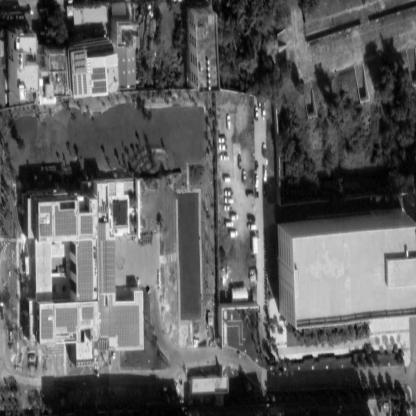solar-pv-panel: (100, 295, 139, 346), (99, 224, 115, 292), (78, 241, 93, 300), (55, 206, 77, 236), (56, 308, 77, 331), (41, 309, 53, 339), (81, 216, 93, 234), (92, 81, 107, 93), (91, 67, 106, 79), (40, 223, 52, 236), (82, 307, 93, 320), (73, 75, 77, 96), (78, 74, 82, 94), (83, 74, 87, 94), (40, 207, 51, 213)
